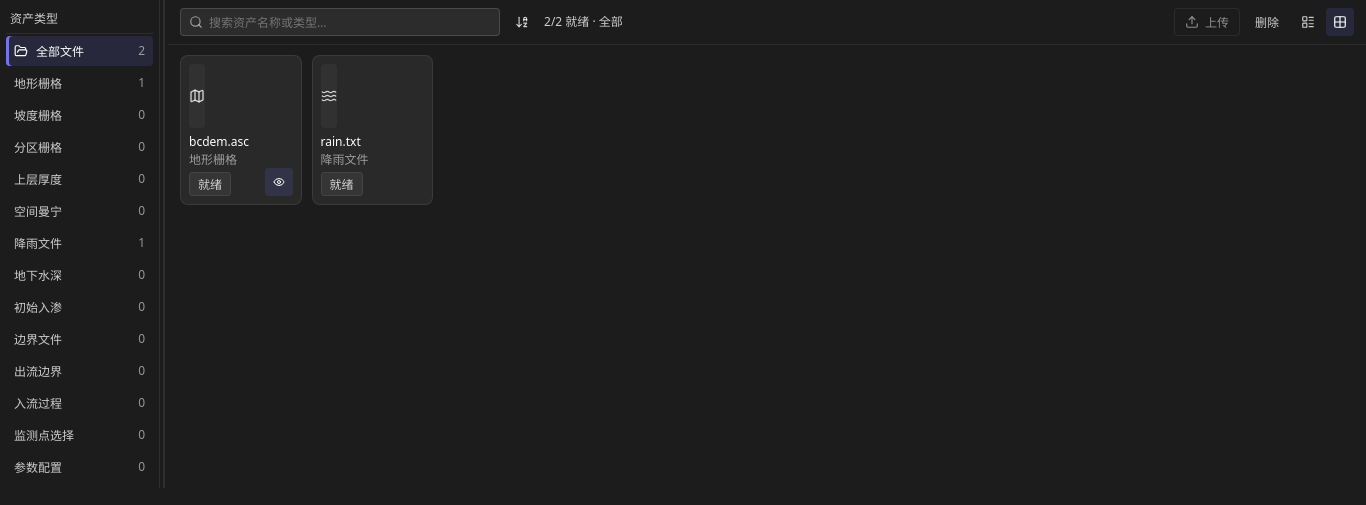
Test case: AssetContentBrowser › toggles delete selection from grid cards and supports select-all deselect
Click the button "删除" at (1267, 22), box [1244,8,1290,36]
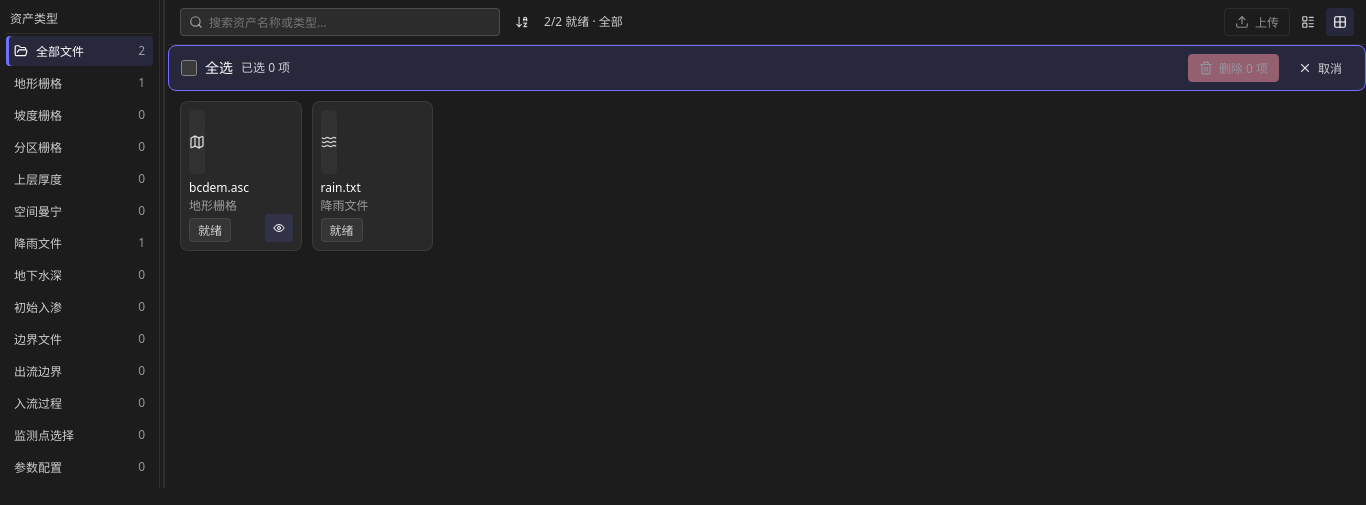
Expected: the text "已选 0 项" is shown, [241,60,290,76]
Click the button "bcdem.asc 地形栅格 就绪" at (225, 176), box [189,110,260,242]
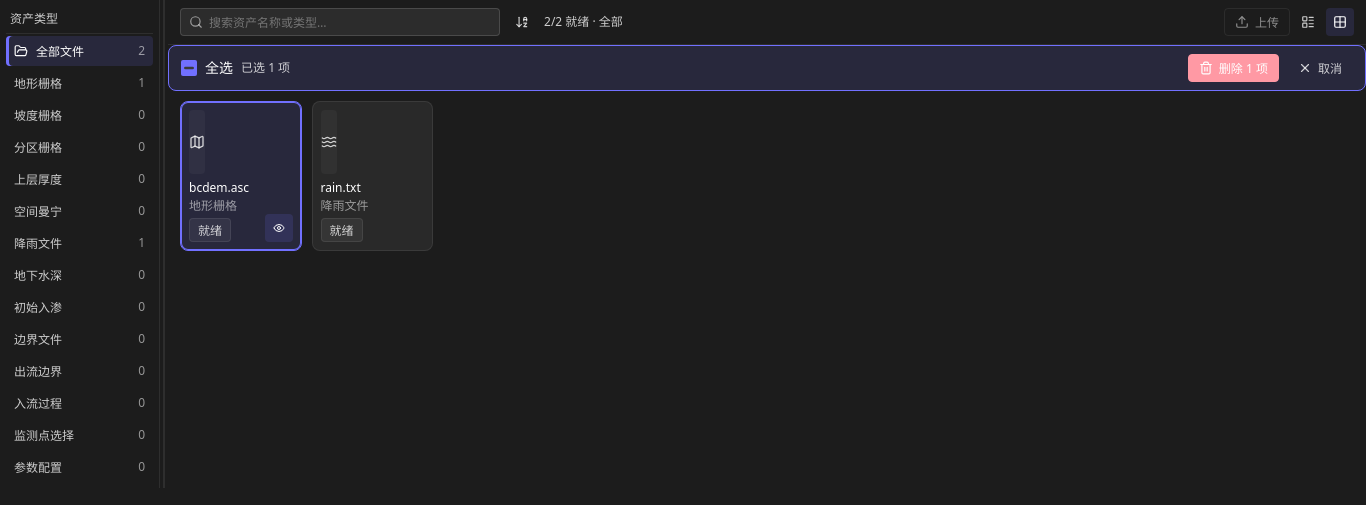
Expected: the text "已选 1 项" is shown, [241,60,290,76]
Click the checkbox named "全选当前筛选结果中可删除的文件" at (189, 68), box [181,60,197,76]
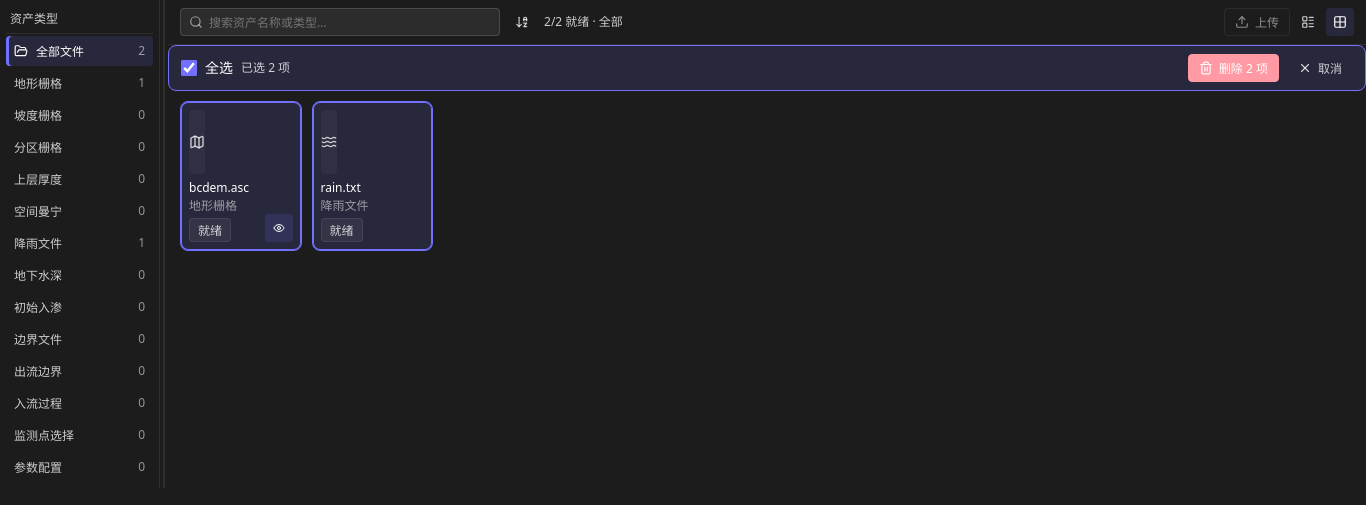
Expected: the text "已选 2 项" is shown, [241,60,290,76]
Click the button "bcdem.asc 地形栅格 就绪" at (225, 176), box [189,110,260,242]
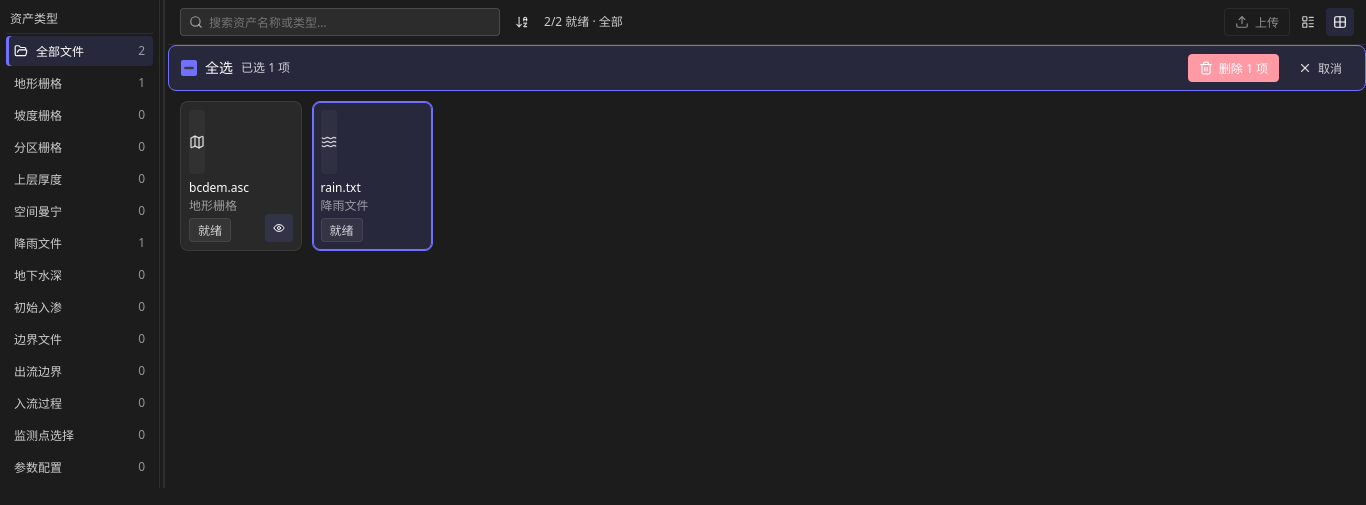
Expected: the text "已选 1 项" is shown, [241,60,290,76]
